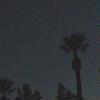Palm tree: (57, 23, 90, 90)
